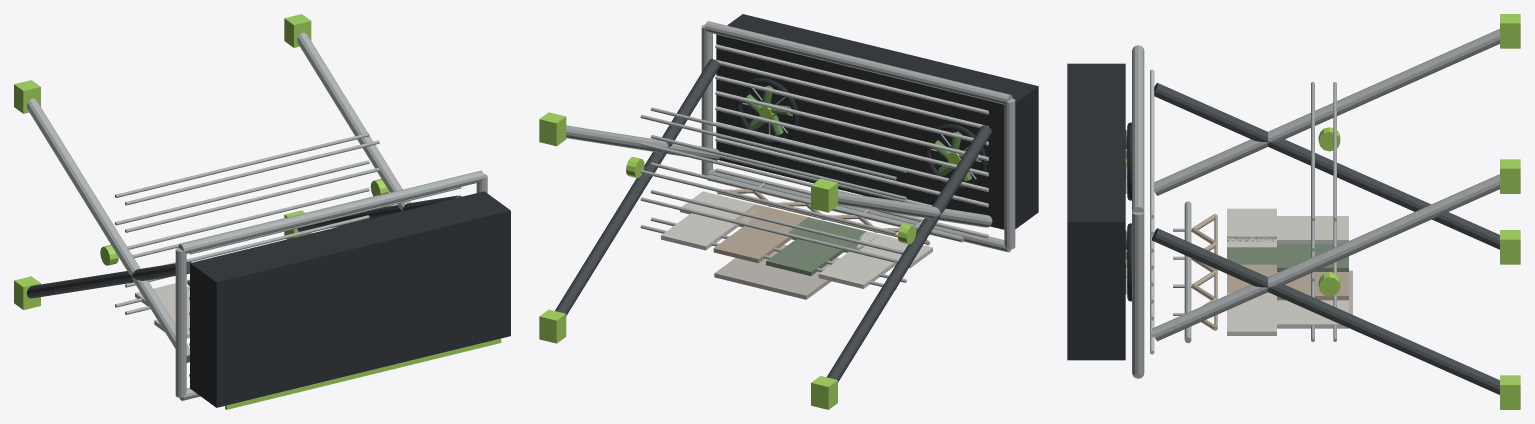
Rendered from nchaf-classic.glb.
3 views of the same model, side by side, from view 1: azimuth 30°, elevation 25°; view 2: azimuth 150°, elevation 25°; view 3: azimuth 270°, elevation 25° (orthographic). The views are drawn at different scales.
Visible parts, largest first — view 1: ventilation_module_38, top_long_rail_16, x_leg_front_1, x_leg_front_8, x_leg_rear_2, top_short_rail_17, module_green_top_trim_39, lower_drying_rod_36, lower_drying_rod_31, lower_drying_rod_32, lower_drying_rod_37, lower_drying_rod_30 (+7 smaller); view 2: ventilation_module_38, x_leg_rear_2, top_long_rail_16, x_leg_rear_9, front_towel_105, garment_torso_88, garment_torso_95, garment_torso_102, garment_torso_81, x_leg_front_1, top_short_rail_17, x_leg_front_8 (+26 smaller); view 3: ventilation_module_38, x_leg_front_8, x_leg_rear_9, x_leg_front_1, x_leg_rear_2, garment_torso_81, garment_torso_102, top_long_rail_16, top_short_rail_18, garment_torso_88, garment_torso_95, hanging_bar_76 (+9 smaller).
Boxes of the visible parts, x1,y1,x2,y2 form: ventilation_module_38: [190, 191, 510, 407]; top_long_rail_16: [178, 170, 484, 253]; x_leg_front_1: [27, 98, 189, 362]; x_leg_front_8: [297, 32, 410, 210]; x_leg_rear_2: [27, 261, 191, 298]; top_short_rail_17: [175, 247, 186, 397]; module_green_top_trim_39: [225, 338, 501, 409]; lower_drying_rod_36: [125, 167, 379, 232]; lower_drying_rod_31: [115, 160, 369, 225]; lower_drying_rod_32: [115, 133, 369, 197]; lower_drying_rod_37: [125, 140, 379, 205]; lower_drying_rod_30: [127, 188, 369, 249]; ventilation_module_38: [716, 14, 1038, 229]; x_leg_rear_2: [827, 125, 992, 382]; top_long_rail_16: [704, 21, 1012, 104]; x_leg_rear_9: [555, 59, 720, 315]; front_towel_105: [714, 244, 839, 299]; garment_torso_88: [766, 220, 866, 275]; garment_torso_95: [713, 207, 812, 263]; garment_torso_102: [661, 195, 754, 250]; garment_torso_81: [818, 233, 908, 288]; x_leg_front_1: [838, 191, 992, 227]; top_short_rail_17: [1004, 98, 1015, 249]; x_leg_front_8: [566, 125, 720, 160]; ventilation_module_38: [1067, 63, 1125, 360]; x_leg_front_8: [1152, 174, 1499, 341]; x_leg_rear_9: [1152, 228, 1499, 394]; x_leg_front_1: [1154, 29, 1499, 195]; x_leg_rear_2: [1154, 83, 1499, 249]; garment_torso_81: [1227, 216, 1348, 243]; garment_torso_102: [1227, 300, 1348, 328]; top_long_rail_16: [1132, 45, 1144, 212]; top_short_rail_18: [1132, 212, 1144, 375]; garment_torso_88: [1227, 244, 1348, 271]; garment_torso_95: [1227, 272, 1348, 300]; hanging_bar_76: [1184, 201, 1191, 343].
Size of the model in its own units: 1.42 by 0.96 by 1.64.
